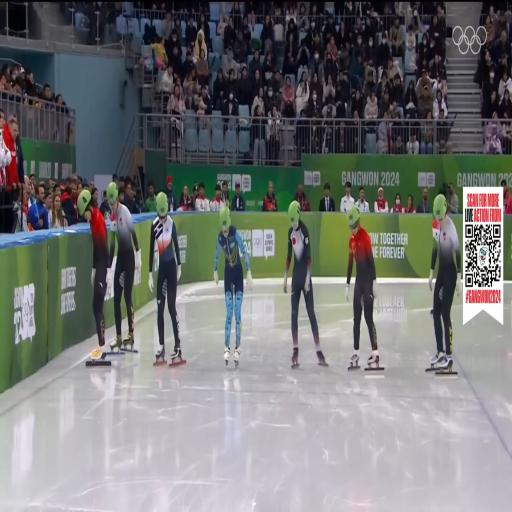Skater: (284, 202, 327, 368), (149, 192, 185, 365), (346, 206, 383, 369), (214, 207, 251, 366), (77, 190, 111, 361), (107, 183, 141, 350), (429, 195, 461, 371)
